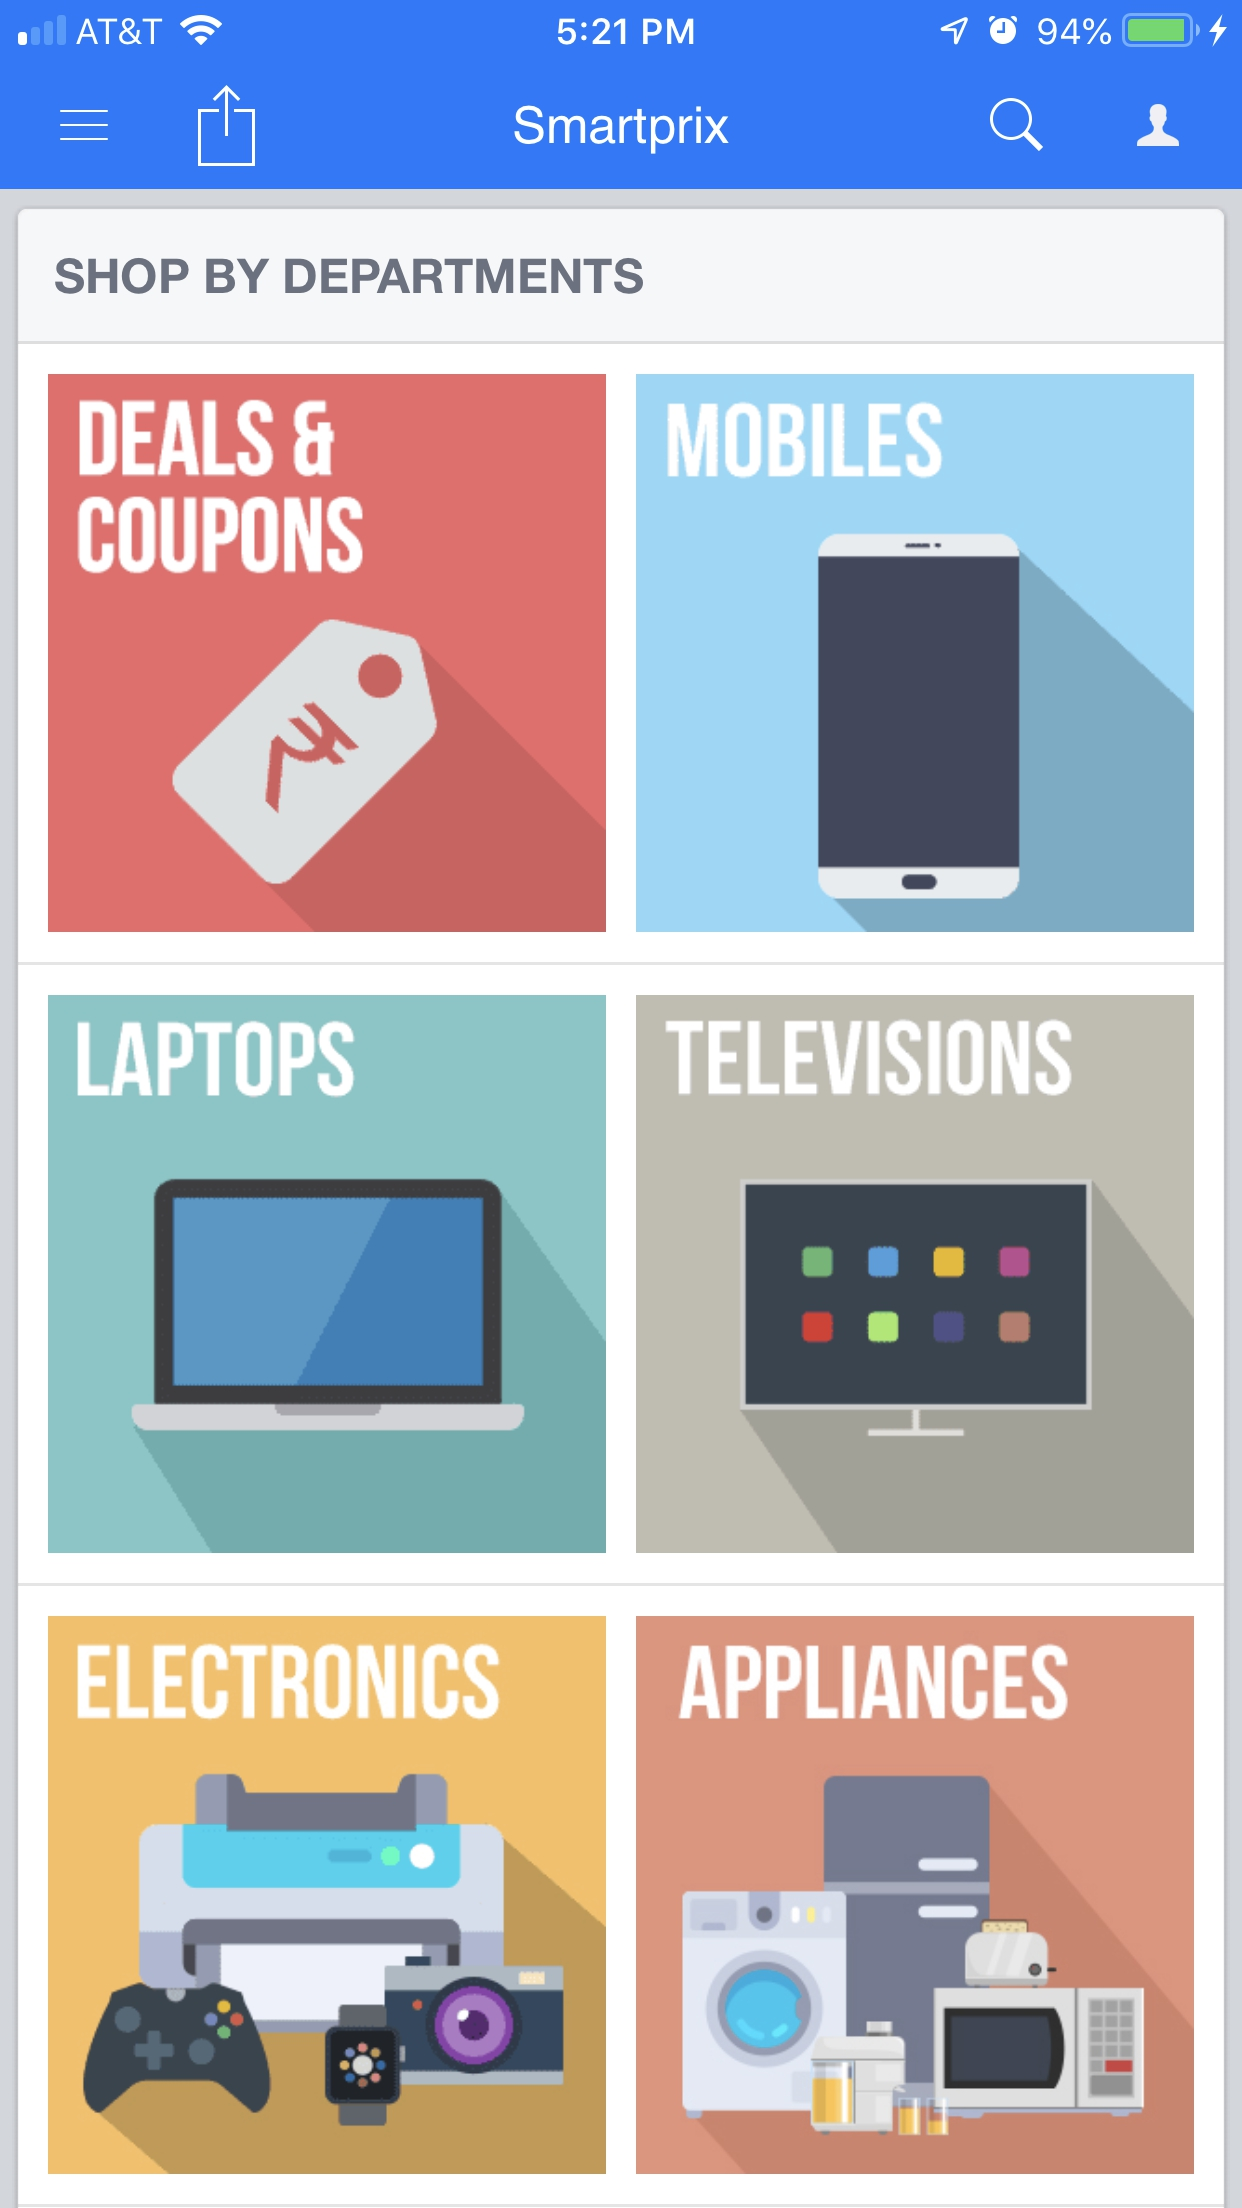Icon: (199, 85, 256, 168), (989, 99, 1043, 153), (1136, 105, 1180, 149), (61, 111, 111, 143)
Image: (49, 375, 608, 933), (634, 372, 1193, 930), (49, 995, 607, 1554), (49, 1615, 607, 2175), (637, 1615, 1195, 2175), (635, 993, 1193, 1550)
Text: (77, 400, 365, 576), (77, 1642, 500, 1720), (678, 1642, 1069, 1721), (666, 1018, 1071, 1093), (55, 256, 645, 296), (76, 1021, 356, 1099), (667, 400, 942, 478), (514, 105, 729, 156)
UpperTaskBar: (2, 2, 1242, 49)
